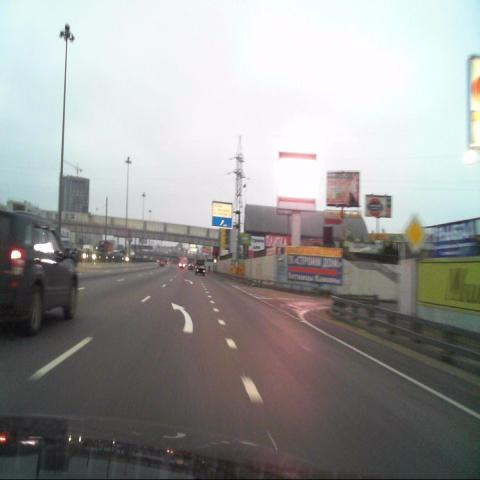2_1: (404, 214, 427, 254)
